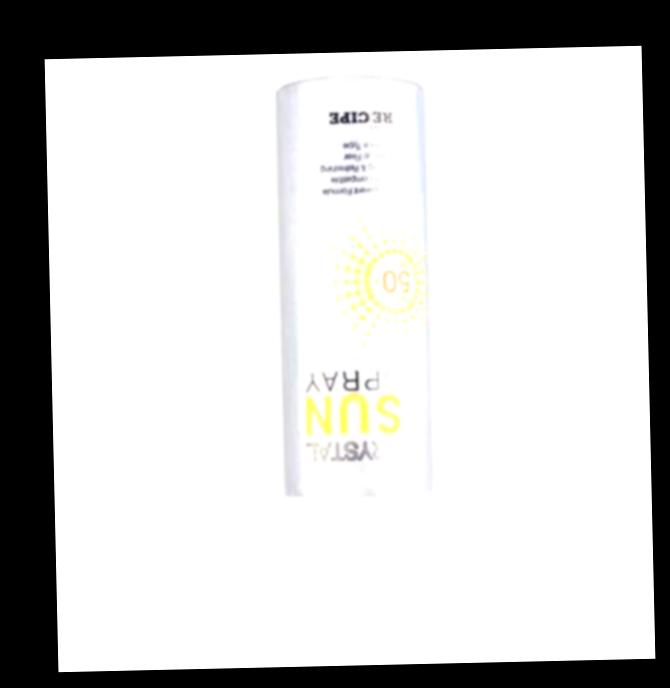cosmetic: (269, 75, 435, 638)
